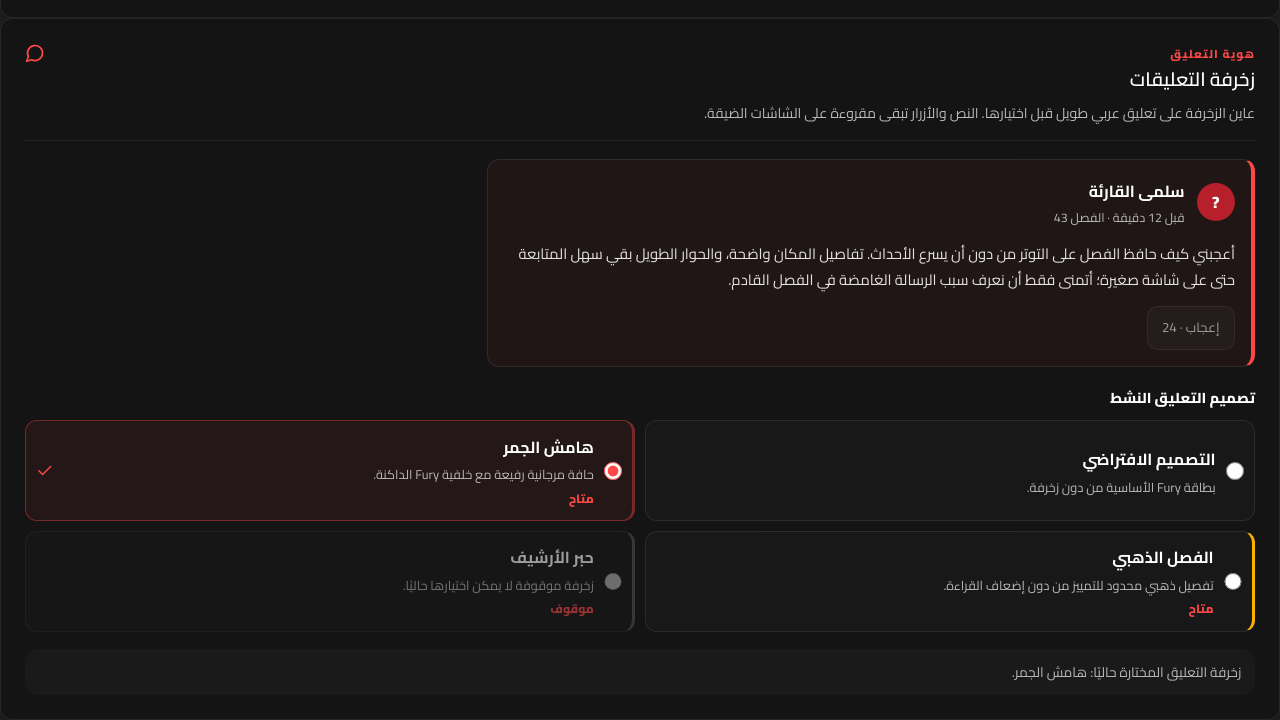
AppearanceSettings › selects a comment decoration, supports the default, and disables stopped gifts
(page scrolled)
Expected: the radio button labelled "حبر الأرشيف زخرفة موقوفة لا يمكن اختيارها حاليًا. موقوف" is disabled, [604,572,622,590]
Click the radio button labelled "التصميم الافتراضي بطاقة Fury الأساسية من دون زخرفة." at (1235, 471), box [1226,462,1244,480]
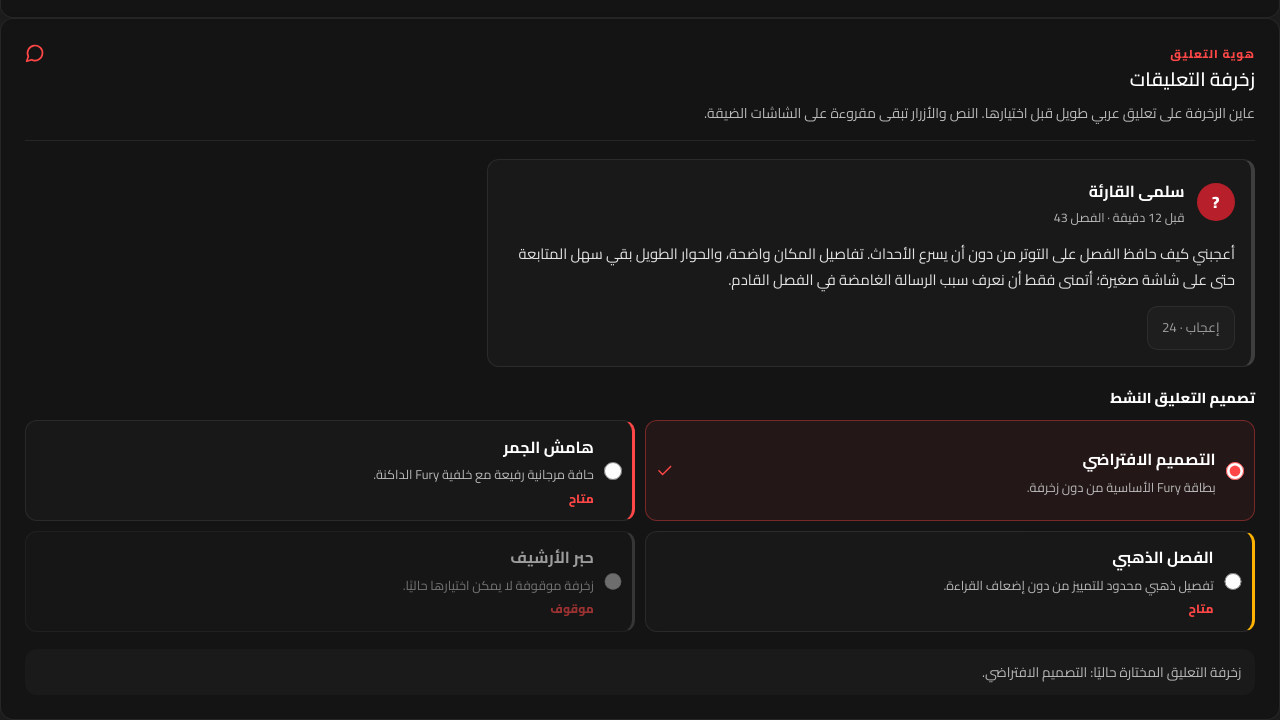
Result: the radio button labelled "التصميم الافتراضي بطاقة Fury الأساسية من دون زخرفة." is checked at [1226,462,1244,480]
Click the radio button labelled "الفصل الذهبي" at (1233, 581), box [1224,572,1242,590]
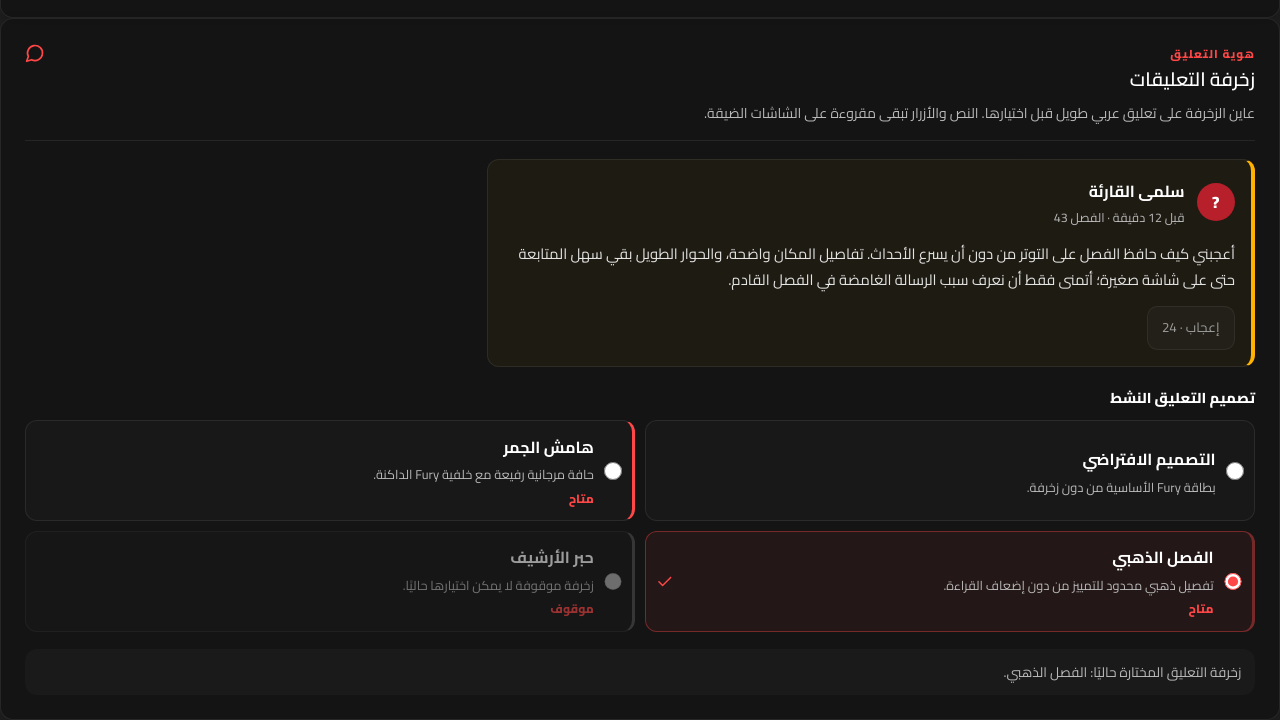
Result: the radio button labelled "الفصل الذهبي" is checked at [1224,572,1242,590]
Result: the radio button labelled "التصميم الافتراضي بطاقة Fury الأساسية من دون زخرفة." is not checked at [1226,462,1244,480]
Result: the element named "معاينة تعليق، الفصل الذهبي" is shown at [487,158,1255,367]
